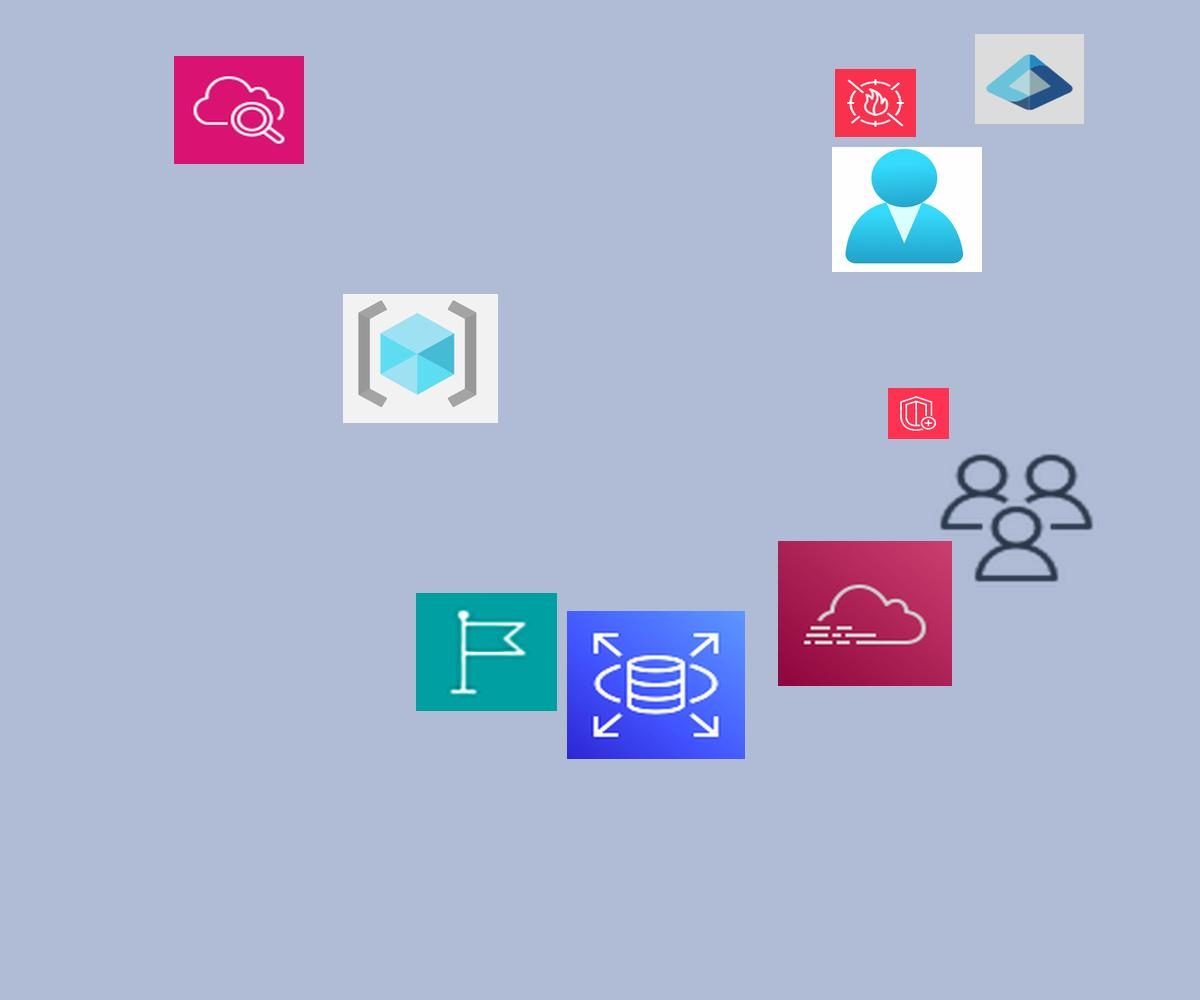AWS-CloudTrail: (778, 541, 952, 686)
AWS-CloudWatch: (174, 56, 304, 164)
AWS-RDS: (567, 611, 745, 759)
AWS-Region: (416, 593, 557, 711)
AWS-Res_Users: (934, 449, 1099, 587)
AWS-Shield: (888, 388, 949, 439)
AWS-WAF: (835, 69, 916, 137)
Azure_microsoft_entra: (975, 34, 1084, 124)
Azure_resource_group: (343, 294, 498, 423)
Azure_users: (832, 147, 982, 272)
